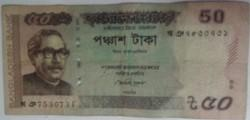50 taka: (3, 6, 247, 118)
